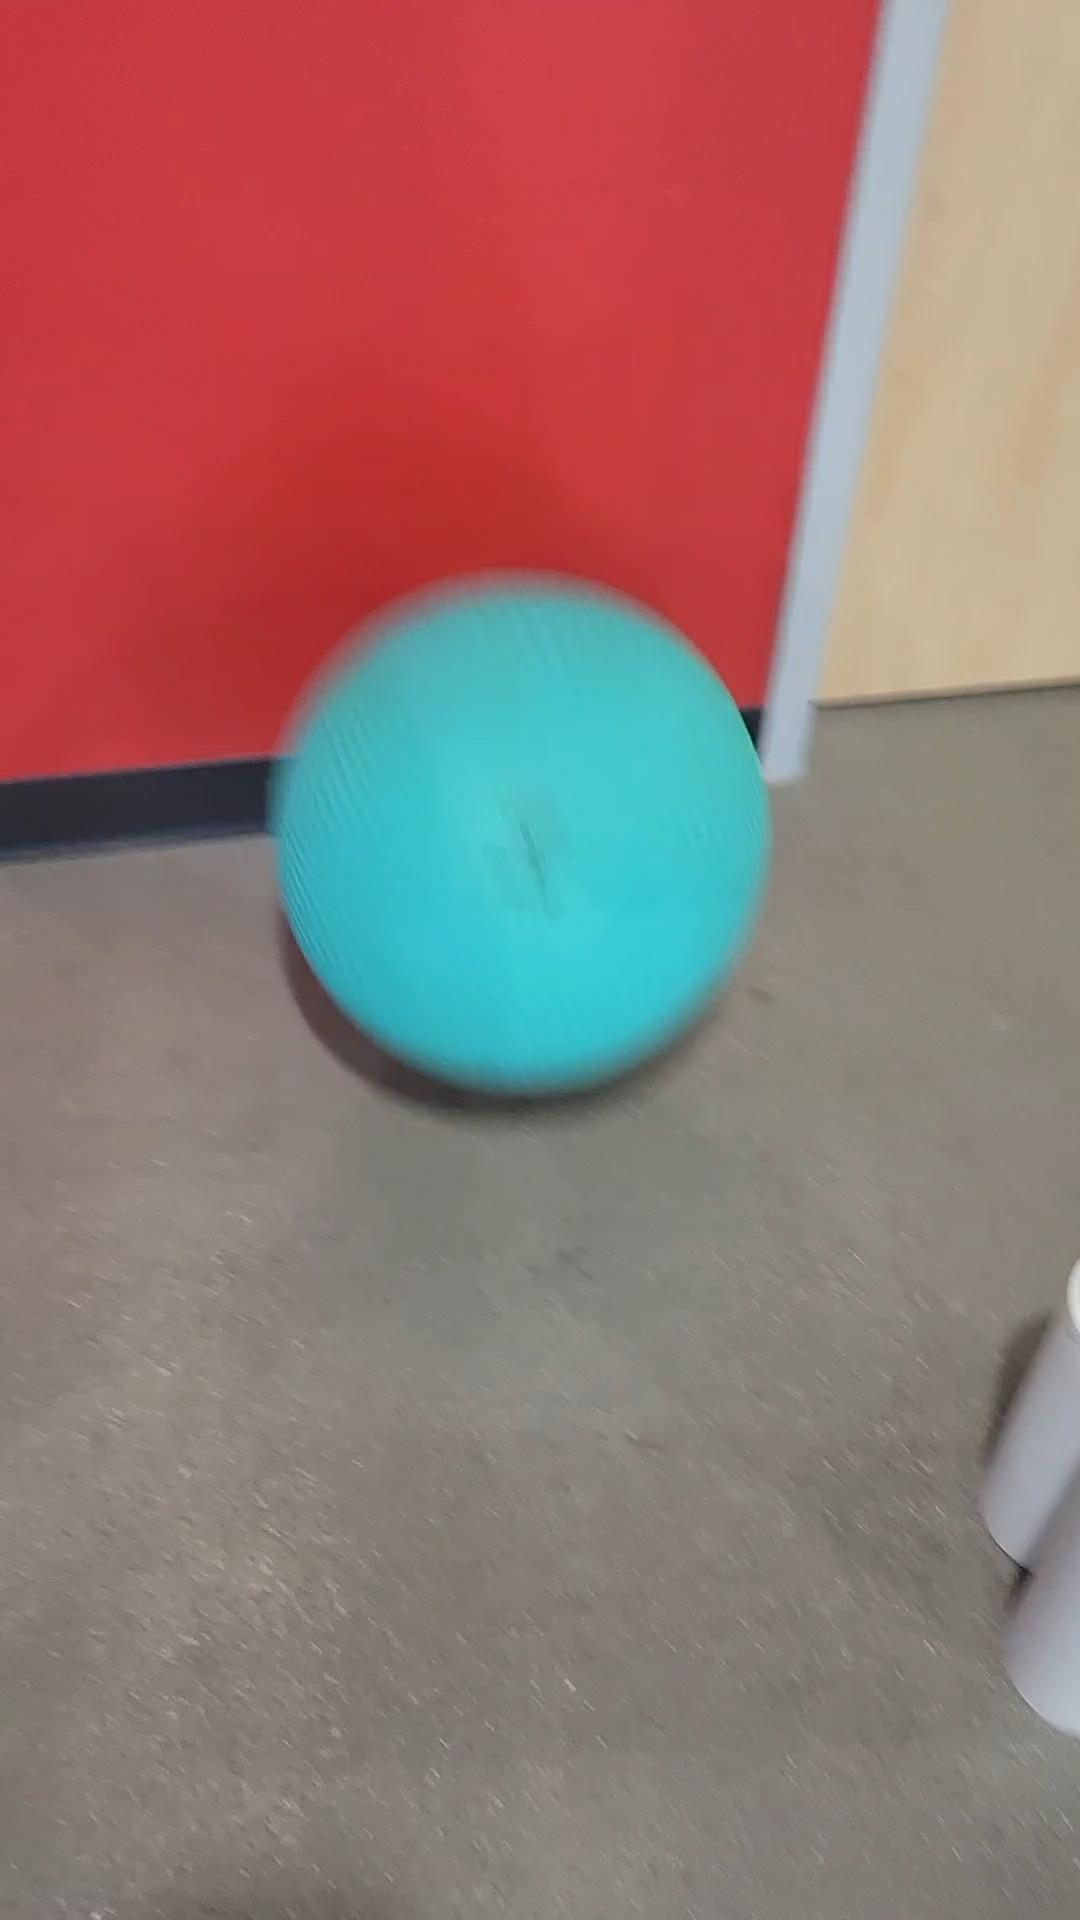algae: (281, 576, 762, 1101)
coral: (1002, 1261, 1071, 1581), (1015, 1505, 1080, 1722)
